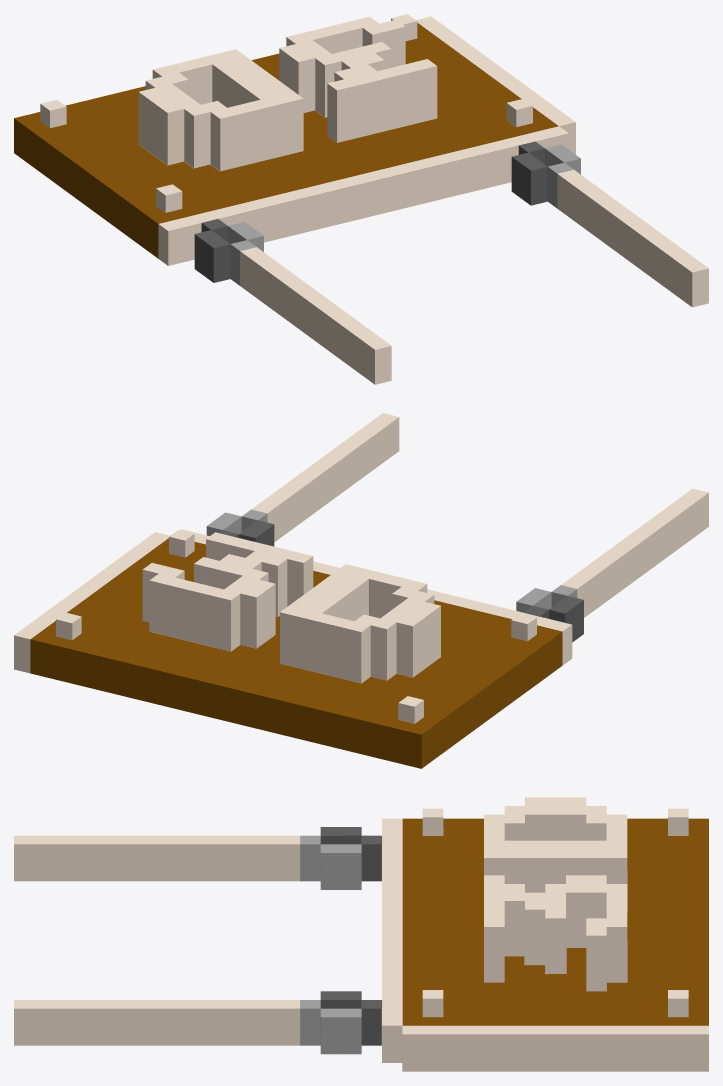
Rendered from main_menu_3d_board.obj.
3 views of the same model, one above another, from view 1: azimuth 30°, elevation 25°; view 2: azimuth 150°, elevation 25°; view 3: azimuth 270°, elevation 25° (orthographic). The views are drawn at different scales.
Parts seen in each view (by area): view 1: main_menu_3d_board; view 2: main_menu_3d_board; view 3: main_menu_3d_board.
Part boxes in pixels (box(x1,y1,x2,y2)): main_menu_3d_board: box(14, 14, 708, 384); main_menu_3d_board: box(14, 413, 708, 768); main_menu_3d_board: box(14, 797, 708, 1071).
Bounding box in the file's own units: 2.5 × 0.5 × 3.4.
Materials: 1 (1 with a texture image).
